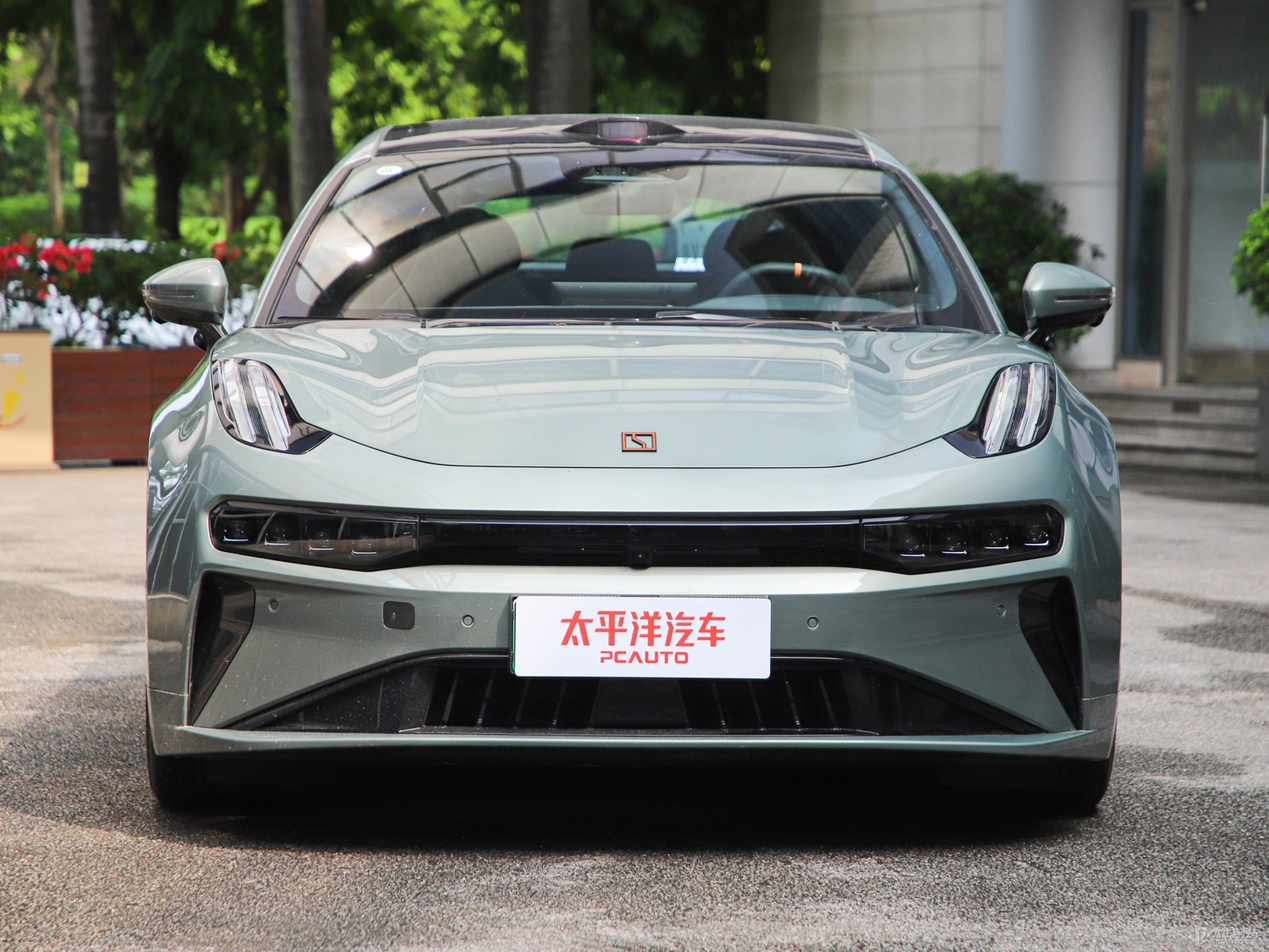ZEEKR: (623, 432, 656, 451)
